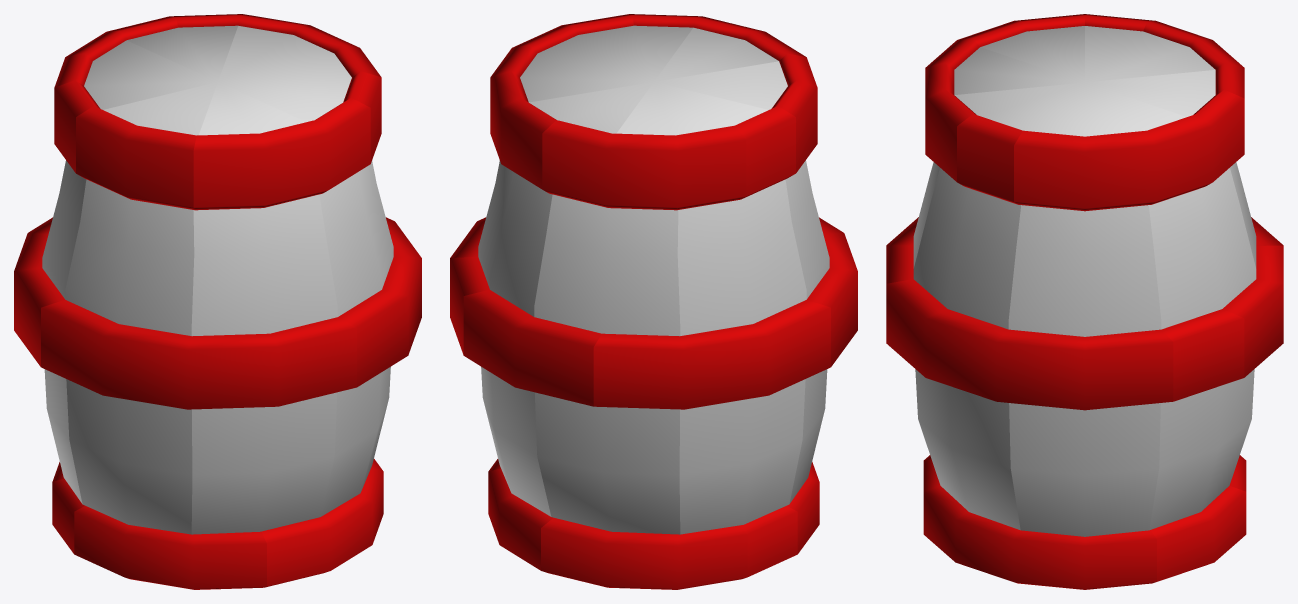
Rendered from Shattered_Barrel_lp.fbx.
3 views of the same model, side by side, from view 1: azimuth 30°, elevation 25°; view 2: azimuth 150°, elevation 25°; view 3: azimuth 270°, elevation 25° (orthographic).
Visible parts, largest first — view 1: Barrel_Bottom_Piece11, Barrel_Bottom_Piece12, Ring_Mid_Piece6, Ring_Top_Piece4, Barrel_Bottom_Piece2, Ring_Bottom_Piece2, Ring_Top_Piece2, Barrel_Top_Piece1, Ring_Bottom_Piece4, Ring_Mid_Piece8, Barrel_Bottom_Piece10, Barrel_Top_Piece5 (+9 smaller); view 2: Barrel_Bottom_Piece8, Barrel_Bottom_Piece10, Ring_Mid_Piece4, Ring_Top_Piece9, Barrel_Bottom_Piece6, Ring_Bottom_Piece7, Ring_Mid_Piece2, Barrel_Top_Piece1, Ring_Top_Piece7, Barrel_Bottom_Piece12, Barrel_Top_Piece5, Ring_Top_Piece10 (+12 smaller); view 3: Barrel_Bottom_Piece4, Barrel_Bottom_Piece2, Barrel_Bottom_Piece6, Ring_Mid_Piece8, Ring_Top_Piece7, Ring_Bottom_Piece4, Barrel_Top_Piece1, Ring_Mid_Piece7, Ring_Bottom_Piece5, Barrel_Top_Piece5, Ring_Mid_Piece2, Ring_Top_Piece4 (+10 smaller).
Boxes of the visible parts, <box> form: Barrel_Bottom_Piece11: <box>191,194,337,534</box>; Barrel_Bottom_Piece12: <box>65,179,194,534</box>; Ring_Mid_Piece6: <box>41,300,356,409</box>; Ring_Top_Piece4: <box>193,98,370,210</box>; Barrel_Bottom_Piece2: <box>319,160,393,516</box>; Ring_Bottom_Piece2: <box>74,506,266,589</box>; Ring_Top_Piece2: <box>76,106,196,210</box>; Barrel_Top_Piece1: <box>218,26,351,121</box>; Ring_Bottom_Piece4: <box>261,459,383,587</box>; Ring_Mid_Piece8: <box>338,217,421,387</box>; Barrel_Bottom_Piece10: <box>42,160,86,503</box>; Barrel_Top_Piece5: <box>84,40,217,109</box>; Barrel_Bottom_Piece8: <box>534,194,680,534</box>; Barrel_Bottom_Piece10: <box>677,179,806,534</box>; Ring_Mid_Piece4: <box>593,300,830,409</box>; Ring_Top_Piece9: <box>542,120,746,210</box>; Barrel_Bottom_Piece6: <box>478,160,552,516</box>; Ring_Bottom_Piece7: <box>541,517,747,589</box>; Ring_Mid_Piece2: <box>463,290,601,406</box>; Barrel_Top_Piece1: <box>520,25,692,102</box>; Ring_Top_Piece7: <box>490,25,577,189</box>; Barrel_Bottom_Piece12: <box>785,160,829,503</box>; Barrel_Top_Piece5: <box>616,82,768,135</box>; Ring_Top_Piece10: <box>735,106,795,199</box>; Barrel_Bottom_Piece4: <box>1008,205,1161,536</box>; Barrel_Bottom_Piece2: <box>913,168,1021,530</box>; Barrel_Bottom_Piece6: <box>1148,168,1256,530</box>; Ring_Mid_Piece8: <box>886,279,1173,410</box>; Ring_Top_Piece7: <box>1014,89,1244,211</box>; Ring_Bottom_Piece4: <box>923,459,1156,589</box>; Barrel_Top_Piece1: <box>954,82,1186,136</box>; Ring_Mid_Piece7: <box>1161,309,1244,401</box>; Ring_Bottom_Piece5: <box>1151,486,1246,581</box>; Barrel_Top_Piece5: <box>1085,26,1215,82</box>; Ring_Mid_Piece2: <box>1223,245,1283,377</box>; Ring_Top_Piece4: <box>925,38,979,181</box>.
Size of the model in its own units: 0.9529 by 1.15 by 0.929.
